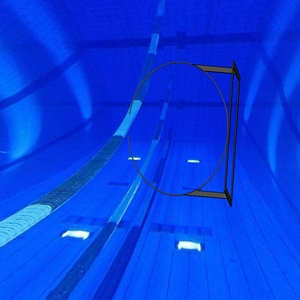circle: (126, 59, 243, 208)
